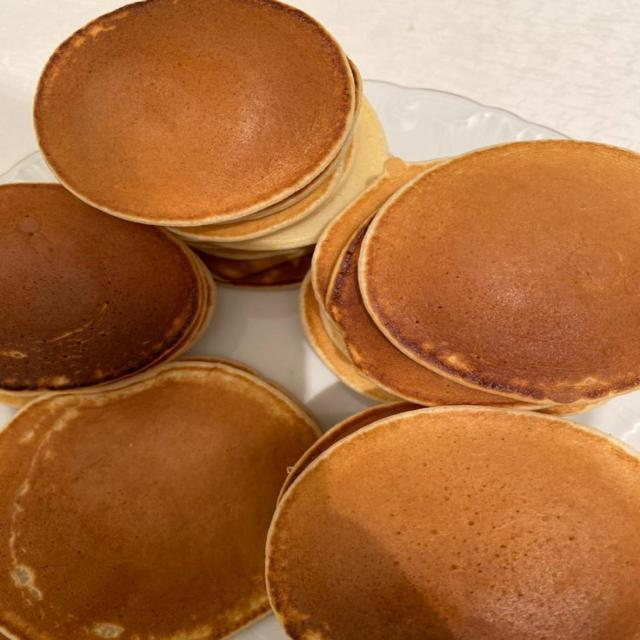pancake: (0, 363, 317, 638), (267, 407, 639, 639), (360, 140, 639, 403), (34, 0, 355, 225), (0, 184, 214, 394), (327, 223, 539, 409), (227, 99, 389, 250), (171, 132, 354, 242), (312, 158, 441, 304), (171, 145, 353, 242), (280, 402, 421, 499), (300, 275, 398, 401), (213, 252, 311, 290), (196, 249, 311, 281), (180, 355, 266, 380), (188, 242, 299, 260), (540, 399, 608, 416)
